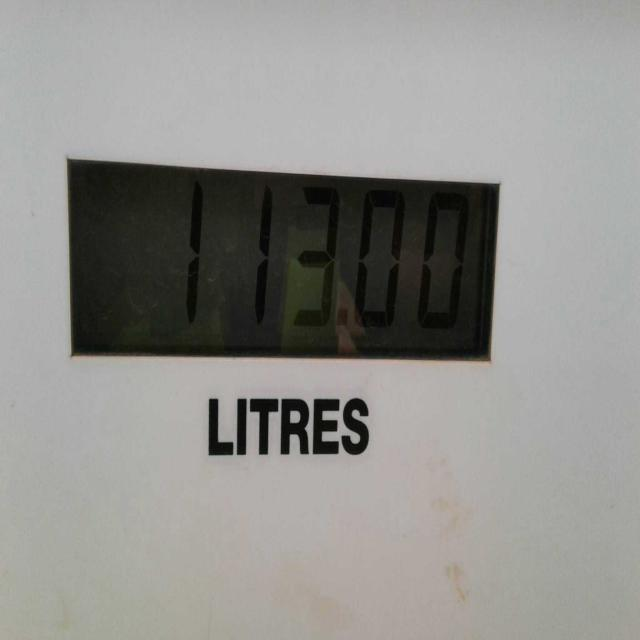.: (330, 302, 355, 340)
0: (346, 182, 411, 344), (417, 187, 473, 337)
1: (170, 175, 222, 336), (249, 181, 286, 326)
3: (292, 179, 339, 336)
